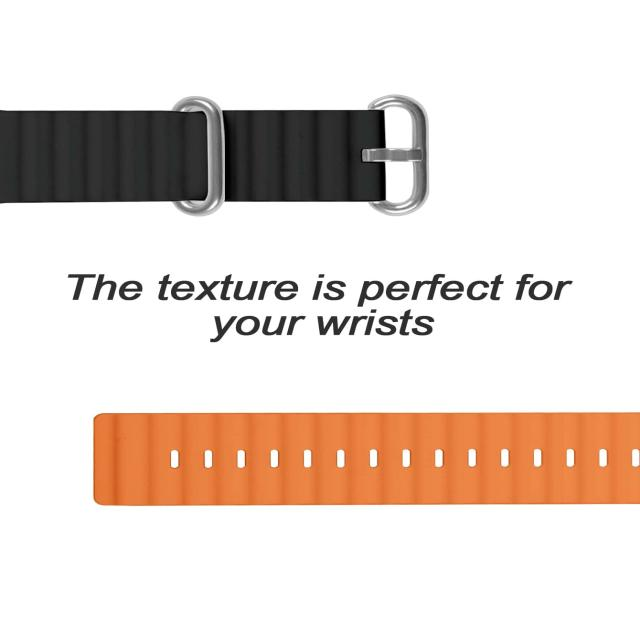bracelet: (56, 373, 640, 556), (0, 44, 499, 252)
